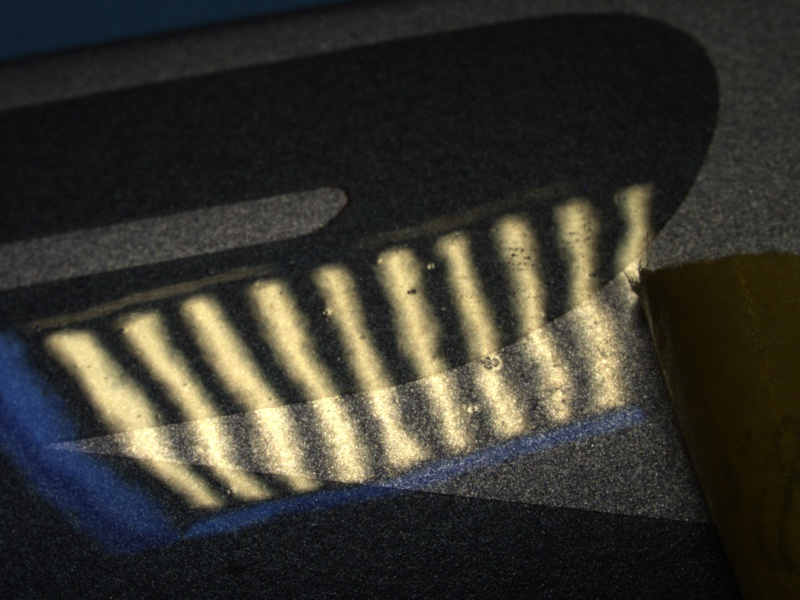bad: (474, 344, 513, 378)
